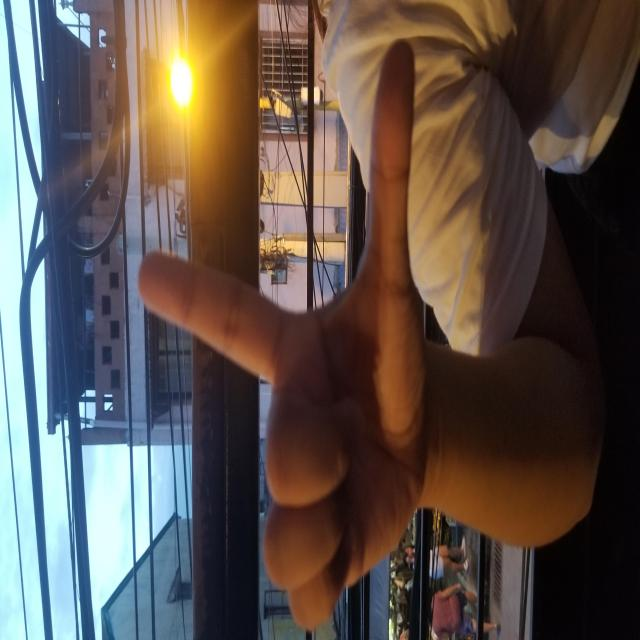L: (10, 136, 609, 428)
